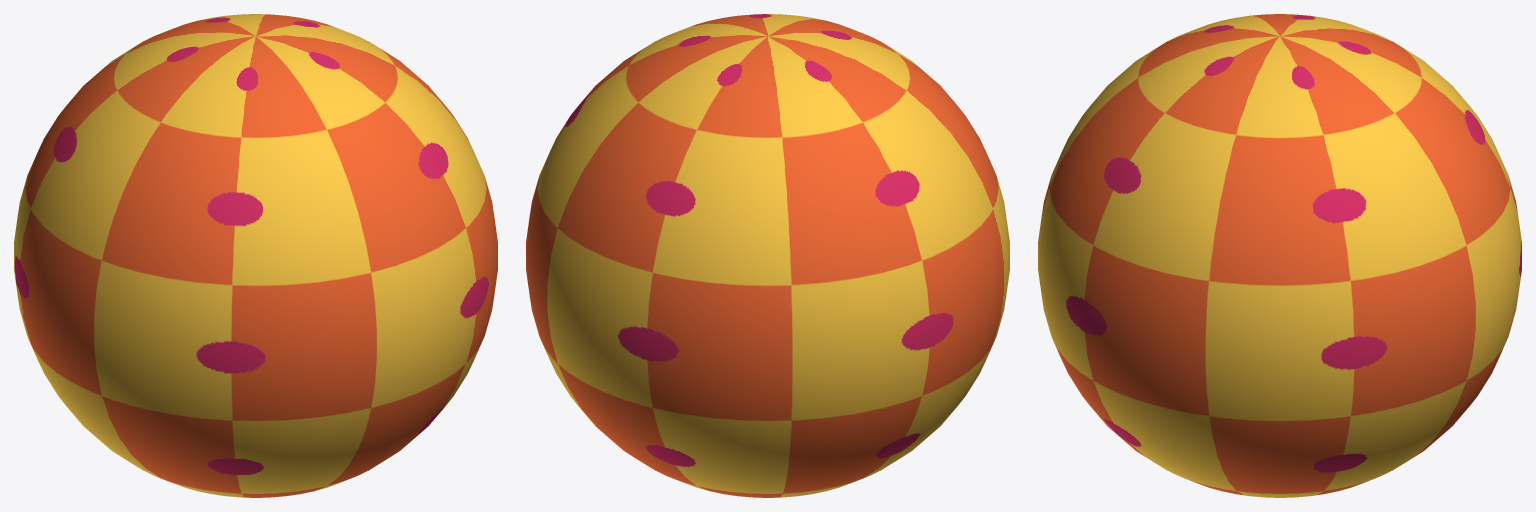
File: ball_d.glb
3 renders of one model, left to right at view 1: azimuth 30°, elevation 25°; view 2: azimuth 150°, elevation 25°; view 3: azimuth 270°, elevation 25°, orthographic.
Parts seen in each view (by area): view 1: PaintedSphere; view 2: PaintedSphere; view 3: PaintedSphere.
Part boxes in pixels (x1,y1,x2,y2): PaintedSphere: [14, 14, 497, 497]; PaintedSphere: [526, 14, 1009, 497]; PaintedSphere: [1038, 14, 1521, 497].
Size of the model in its own units: 2 by 2 by 2.
Materials: 1 (1 with a texture image).
